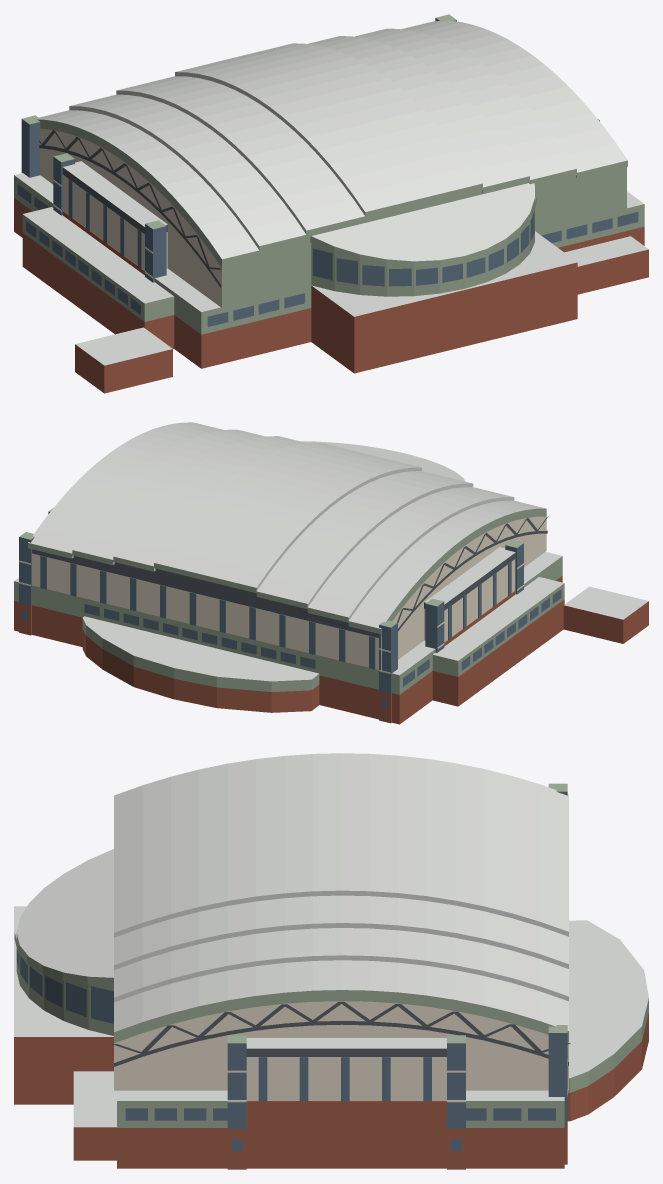
File: phx-chase-field.glb
3 renders of one model, top to bottom at view 1: azimuth 30°, elevation 25°; view 2: azimuth 150°, elevation 25°; view 3: azimuth 270°, elevation 25°, orthographic. The views are drawn at different scales.
Visible parts, largest first — view 1: Chase Field; view 2: Chase Field; view 3: Chase Field.
Part boxes in pixels (bbox=[...]): Chase Field: bbox=[14, 14, 648, 393]; Chase Field: bbox=[14, 422, 648, 724]; Chase Field: bbox=[14, 753, 648, 1169].
Bounding box in the file's own units: 277 × 74.6 × 235.
